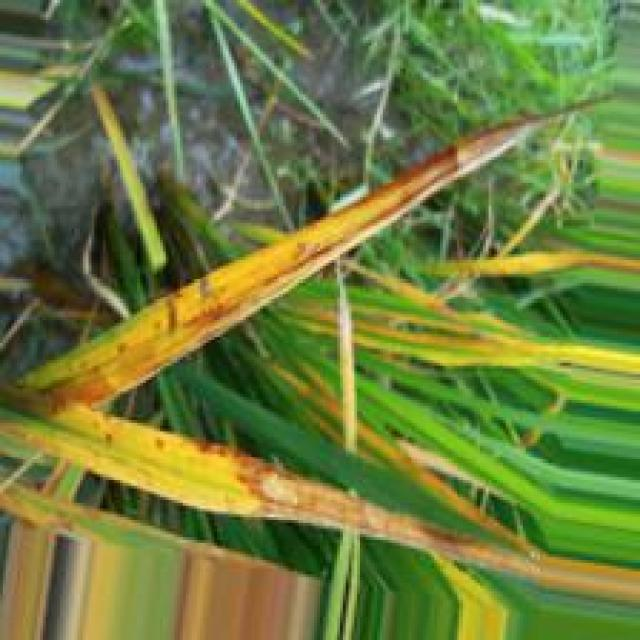Narrow_Brown_Leaf_Spot: (58, 116, 544, 408), (28, 395, 492, 569)
